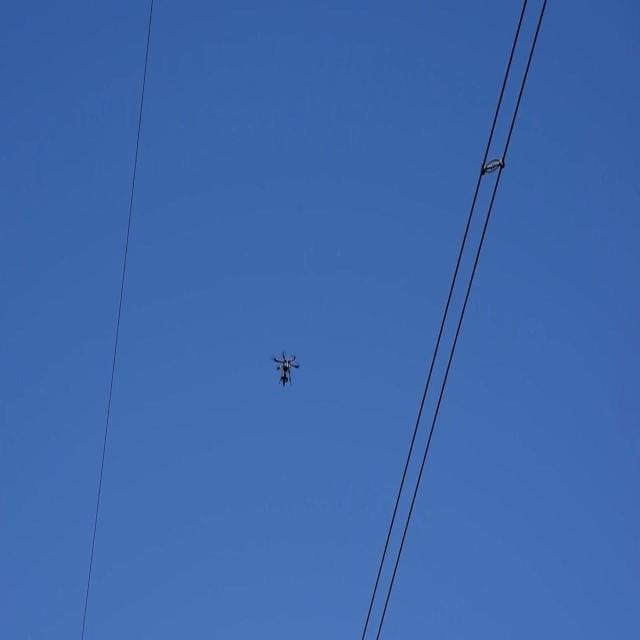drone: (270, 348, 300, 389)
